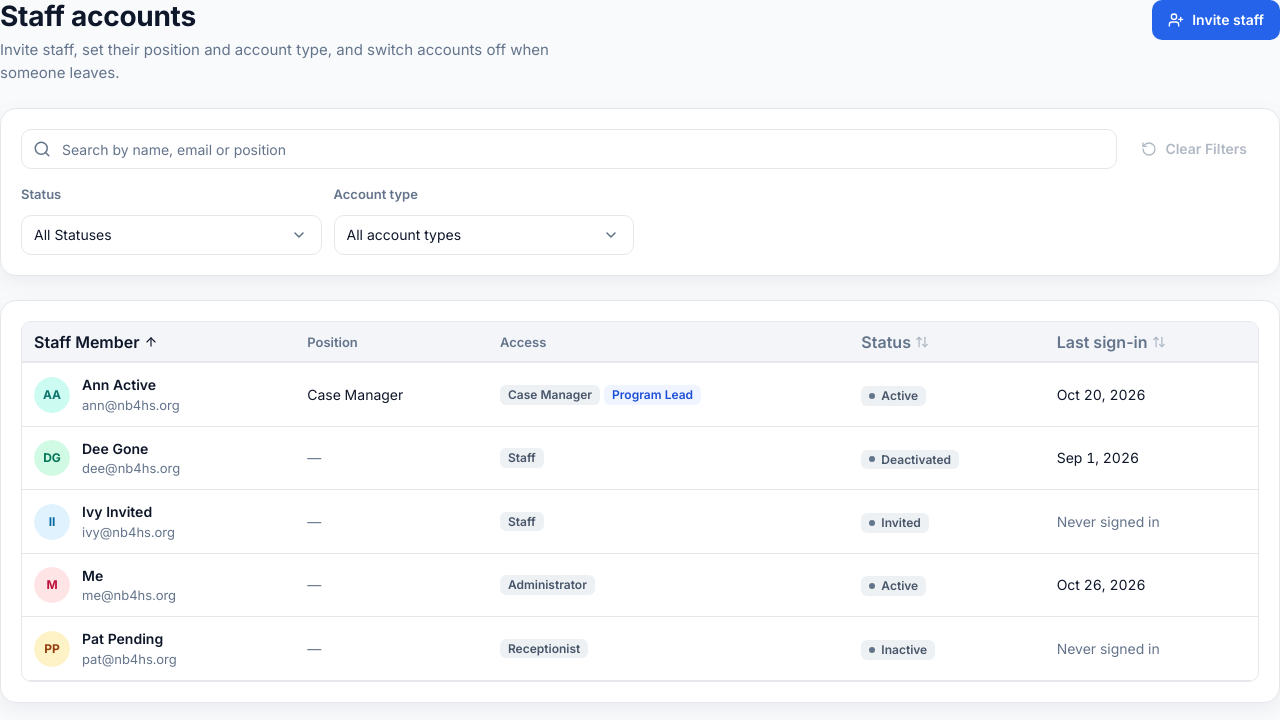
Test case: Staff accounts list › shows every account with its status and filters by status
This screenshot has width=1280, height=720.
expect the text "Invited" is shown: met, box [861,513,929,533]
expect the text "Inactive" is shown: met, box [861,640,935,660]
Select "Inactive (1)" in the dropdown labelled "Status" at (171, 235), box [21,215,322,255]
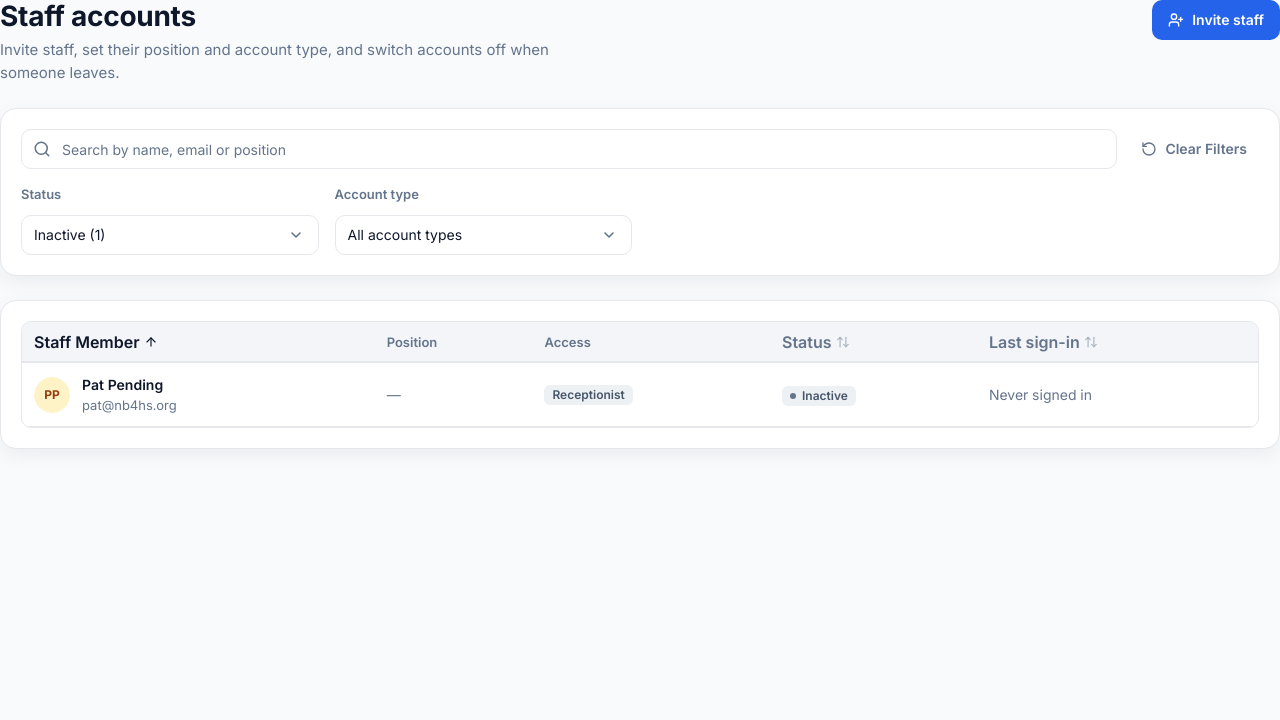
expect the link "Pat Pending" is shown: met, box [82,376,177,396]
expect no links "Ann Active" are shown: met
